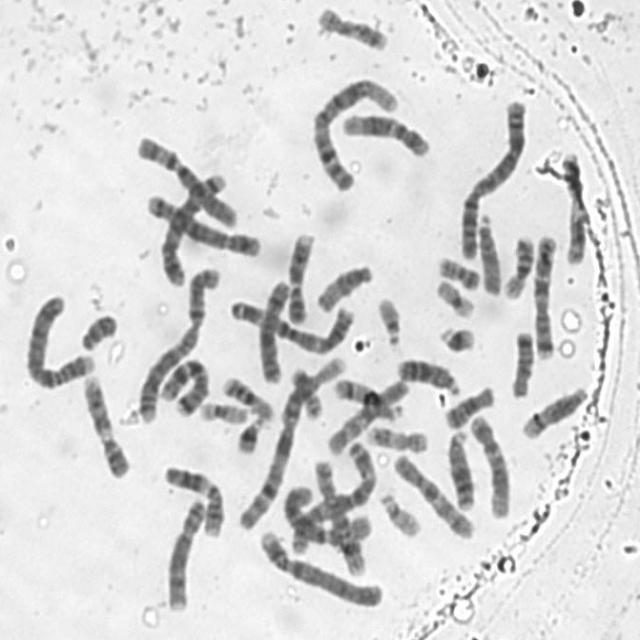A1: (235, 352, 353, 532), (307, 72, 402, 193)
A2: (133, 260, 222, 422), (455, 92, 529, 262)
A3: (283, 435, 378, 556), (226, 292, 359, 356)
B4: (256, 524, 386, 610), (21, 288, 98, 391)
B5: (141, 187, 264, 260), (156, 165, 229, 287)
C10: (388, 448, 476, 541), (322, 373, 411, 457)
C11: (159, 456, 228, 540), (557, 147, 589, 267)
C12: (466, 408, 513, 520), (339, 107, 433, 159)
C6: (132, 128, 241, 231), (282, 477, 375, 554)
C7: (529, 228, 560, 361), (156, 351, 212, 419)
C8: (308, 455, 367, 577), (162, 492, 211, 615)
C9: (78, 370, 133, 479), (282, 226, 317, 326)
D13: (442, 423, 478, 512), (392, 352, 463, 397)
D14: (517, 379, 590, 442), (330, 373, 404, 423)
D15: (311, 257, 375, 313), (474, 208, 504, 297)
E16: (218, 370, 276, 422), (499, 230, 536, 300)
E17: (313, 0, 391, 53), (362, 419, 430, 455)
E18: (440, 380, 496, 430), (506, 324, 536, 400)
F19: (431, 275, 477, 320), (195, 395, 250, 425)
F20: (286, 363, 324, 423), (433, 250, 482, 292)
G21: (233, 410, 267, 456), (434, 319, 478, 354)
G22: (375, 486, 423, 540), (373, 290, 404, 349)
X: (256, 275, 294, 384)
Y: (76, 307, 120, 352)
